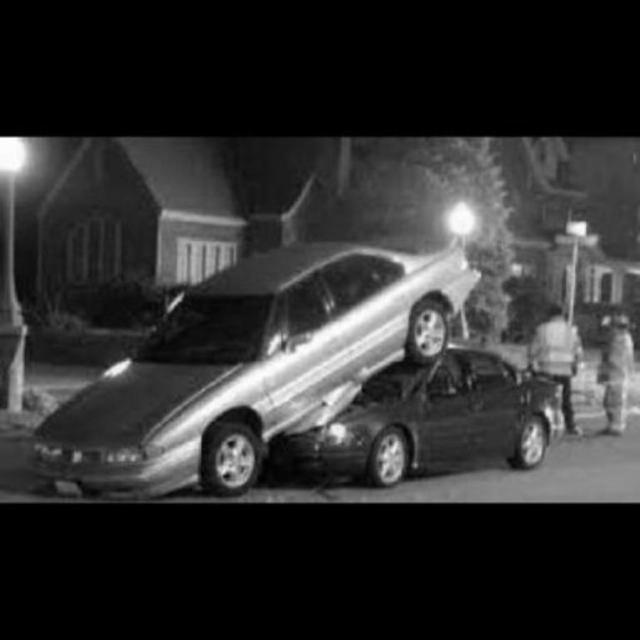accident: (34, 230, 569, 508)
person: (530, 301, 586, 448), (595, 312, 635, 438)
